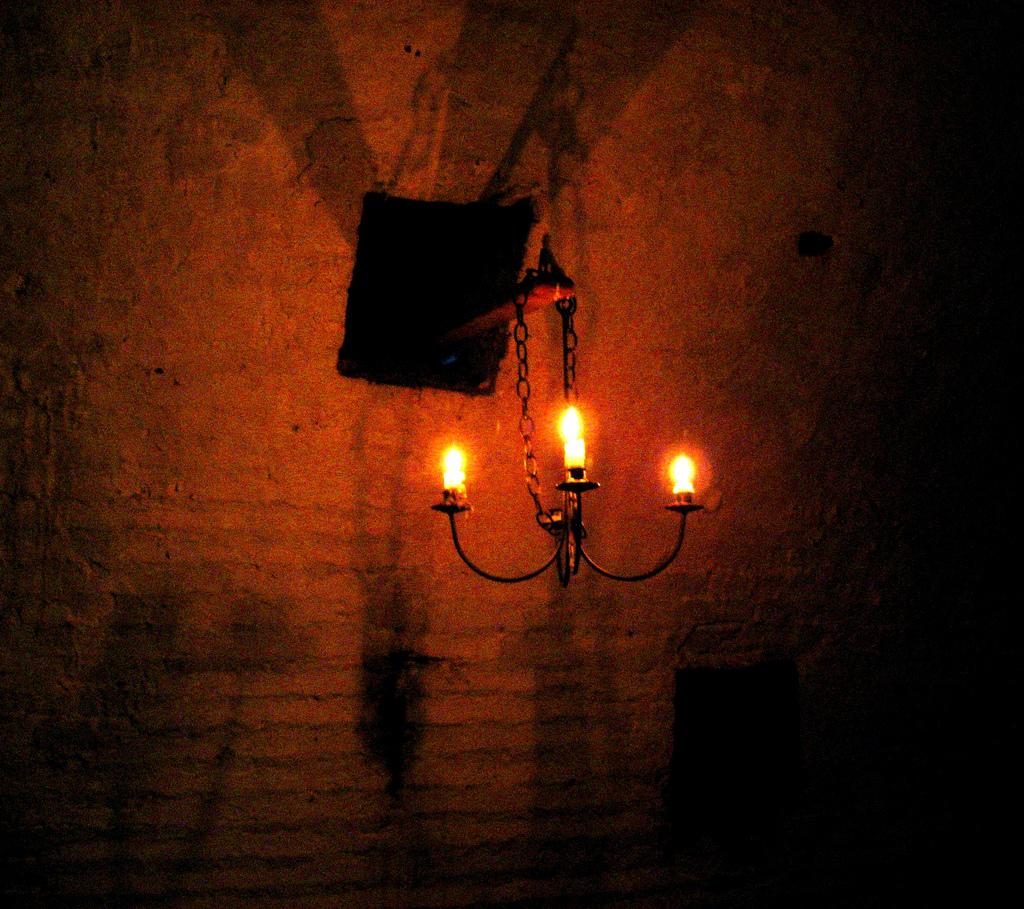fire: (445, 442, 468, 500), (658, 458, 702, 480), (552, 400, 565, 440)
